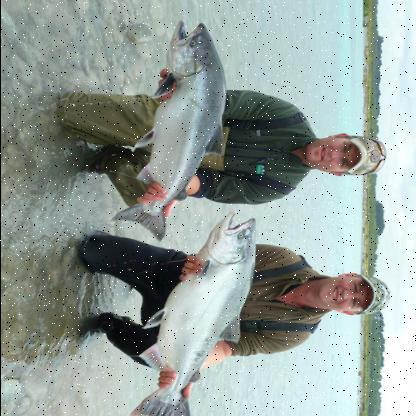fish: (126, 212, 260, 416), (114, 18, 226, 238)
